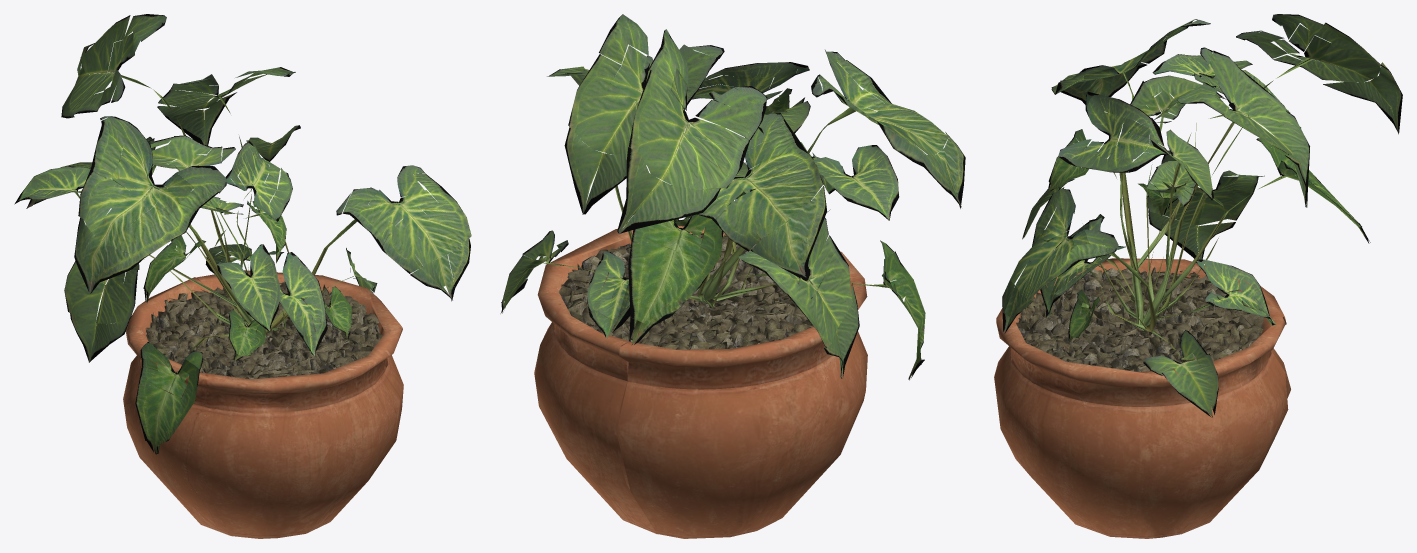
Rendered from potted_plant_02.glb.
The picture shows the model from 3 angles, left to right: view 1: azimuth 30°, elevation 25°; view 2: azimuth 150°, elevation 25°; view 3: azimuth 270°, elevation 25°; orthographic projection. The views are drawn at different scales.
Parts seen in each view (by area): view 1: potted_plant_02_leaves, potted_plant_02_pot; view 2: potted_plant_02_leaves, potted_plant_02_pot; view 3: potted_plant_02_pot, potted_plant_02_leaves.
Boxes of the visible parts, x1,y1,x2,y2 form: potted_plant_02_leaves: (14,14,471,454); potted_plant_02_pot: (123,270,403,538); potted_plant_02_leaves: (500,14,965,380); potted_plant_02_pot: (534,225,867,538); potted_plant_02_pot: (994,258,1290,538); potted_plant_02_leaves: (1002,14,1402,417).
Bounding box in the file's own units: 0.7009 × 0.8422 × 0.6568.
2 materials, 2 textured.
